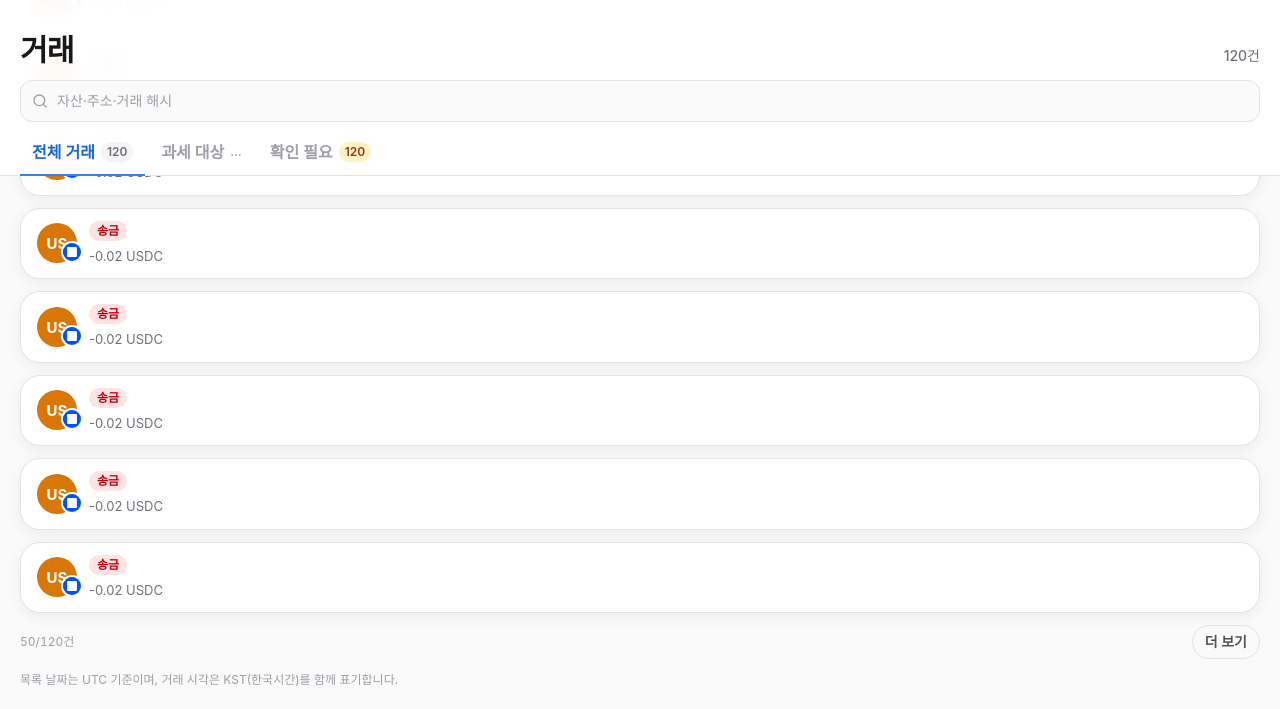
Test case: 창을 되돌리는 것은 목록의 정체뿐이다 › 탭을 바꾸면 처음 50줄로 돌아간다
(page scrolled)
Click the button "더 보기" at (1226, 642), box [1192, 625, 1260, 659]
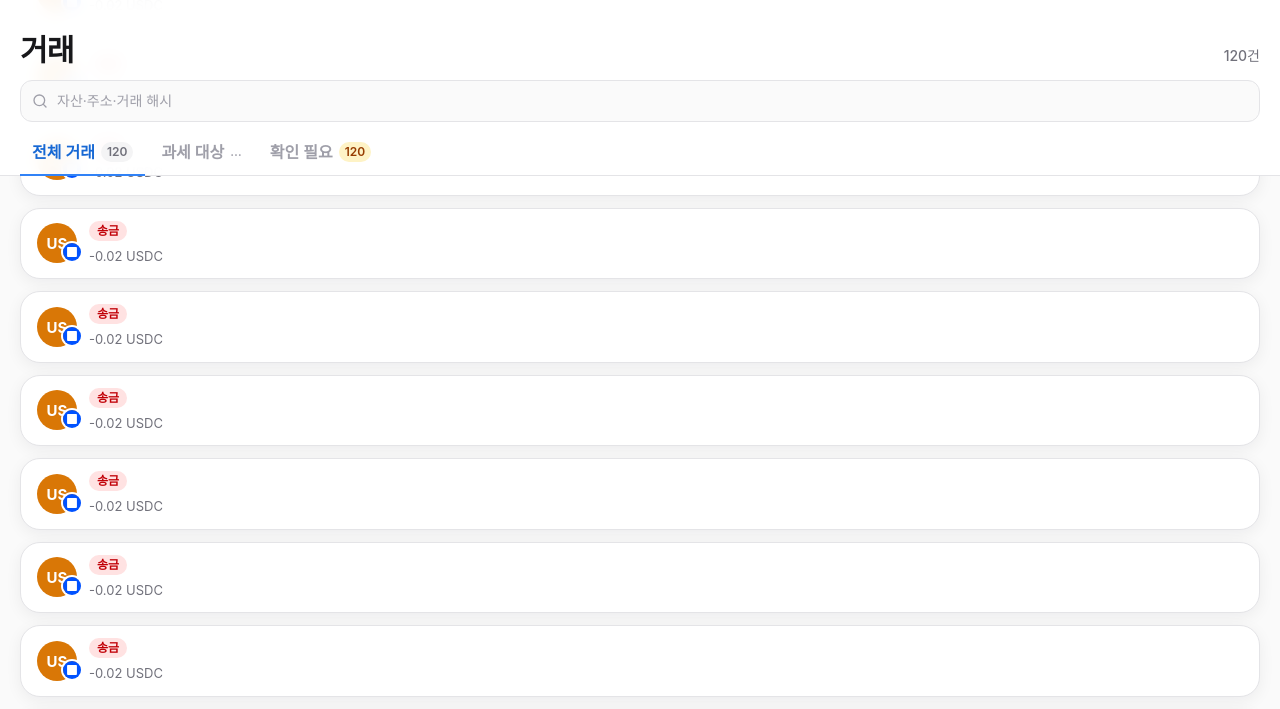
Click the tab "확인 필요 120" at (320, 153), box [258, 130, 383, 176]
(page scrolled)
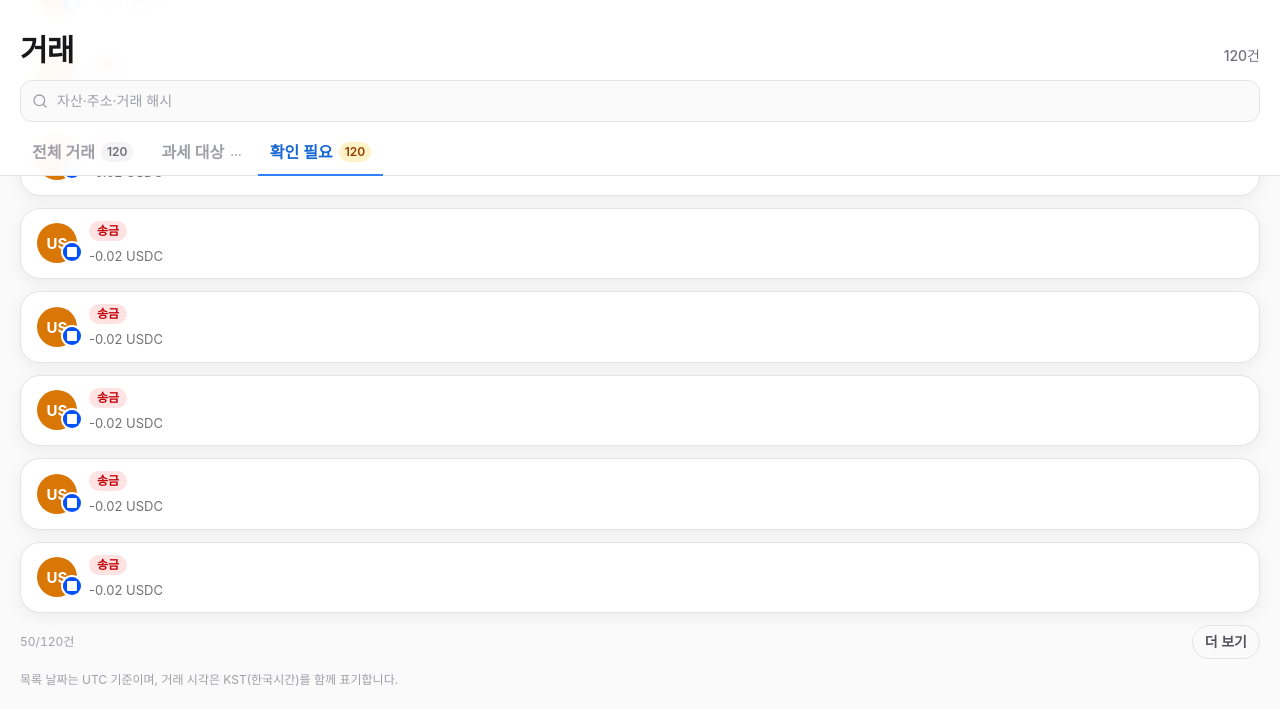
Now the element showing "50/120건 더 보기" is shown, box [20, 625, 1260, 659]
